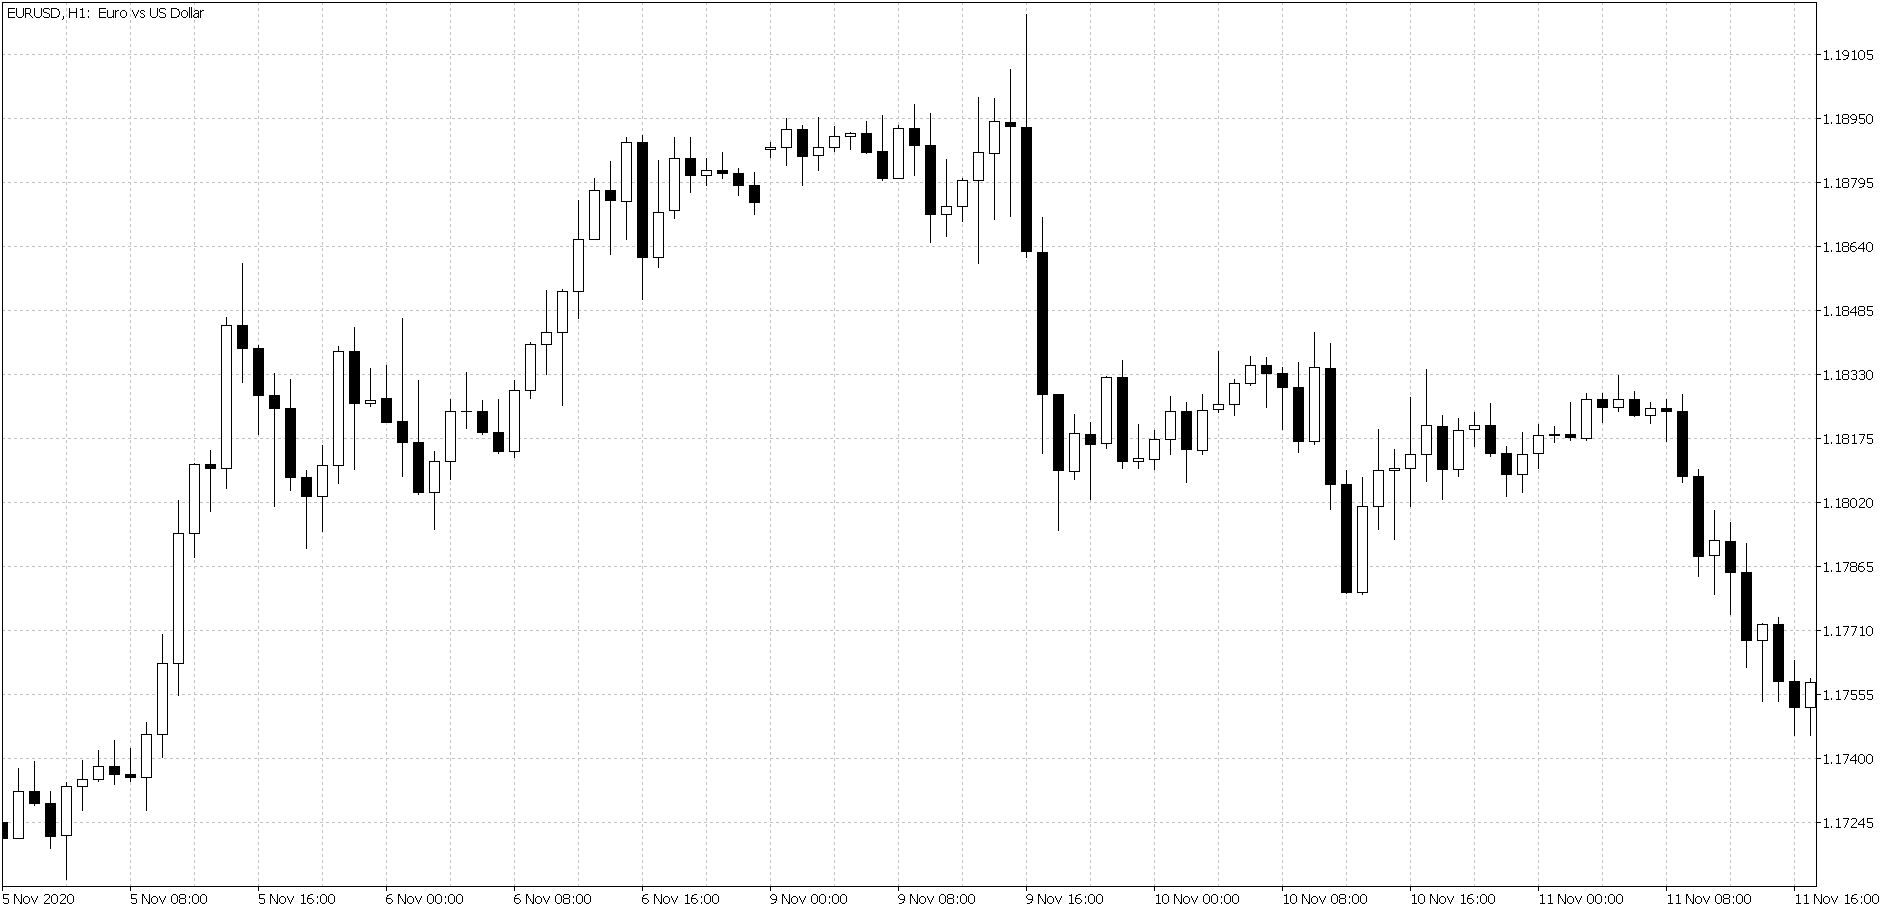bullishEngulfing: (493, 383, 524, 473)
eveningDojiStar: (445, 377, 489, 487)
